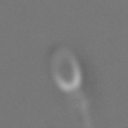normal: (71, 88, 94, 125)
